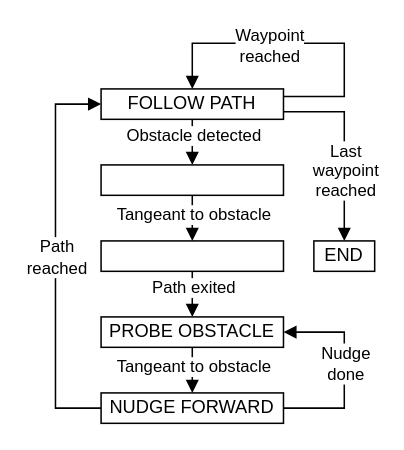
This 404x450 diagram has some shape labels left out. Each missing label, with the box of its shape:
EXIT PATH: (100, 239, 283, 271)
FACE AWAY: (100, 163, 283, 195)
